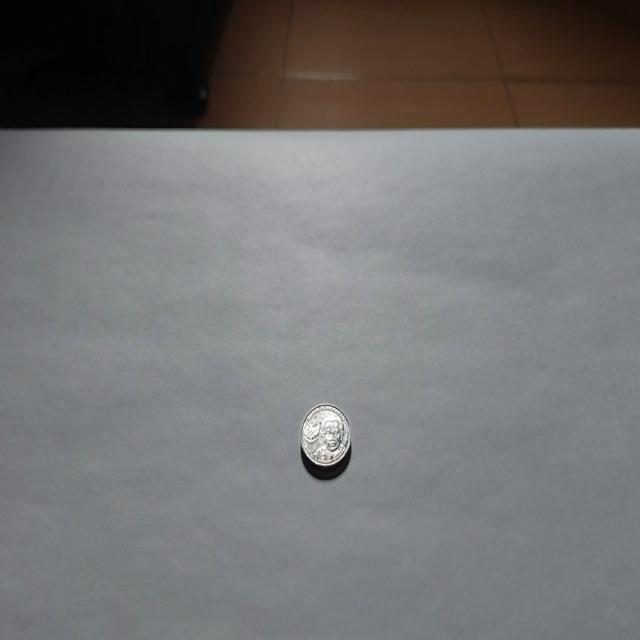seratus rupiah: (299, 400, 351, 478)
